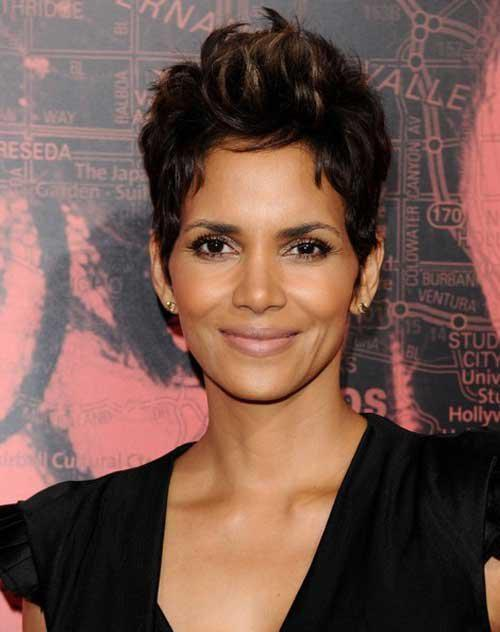Sober: (179, 143, 347, 393)
